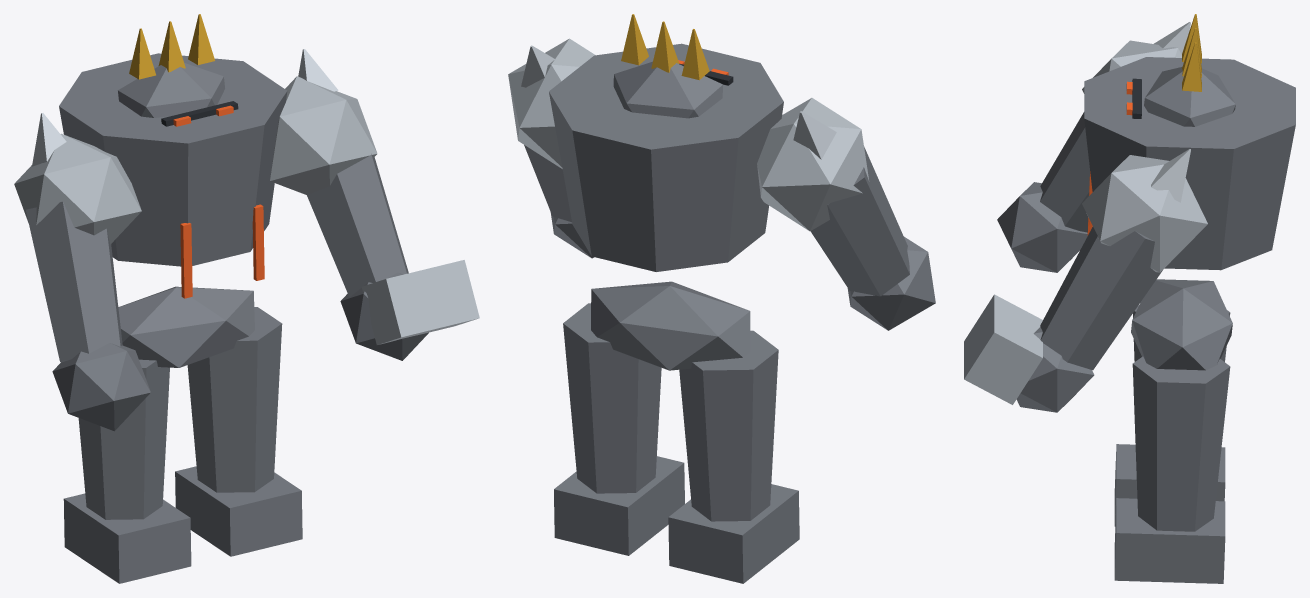
File: npcpose_colossus_idle_02.glb
3 renders of one model, left to right at view 1: azimuth 30°, elevation 25°; view 2: azimuth 150°, elevation 25°; view 3: azimuth 270°, elevation 25°, orthographic. The views are drawn at different scales.
Parts seen in each view (by area): view 1: npcpose; view 2: npcpose; view 3: npcpose.
Part boxes in pixels (bbox=[...]): npcpose: bbox=[14, 14, 479, 583]; npcpose: bbox=[508, 14, 935, 583]; npcpose: bbox=[964, 14, 1295, 583].
Bounding box in the file's own units: 2.3 × 3 × 1.77.
